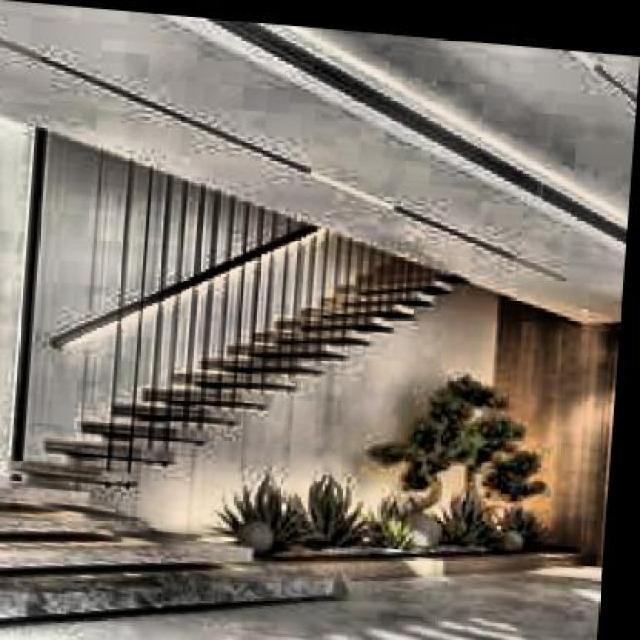stair: (55, 222, 477, 504), (0, 484, 355, 638)
